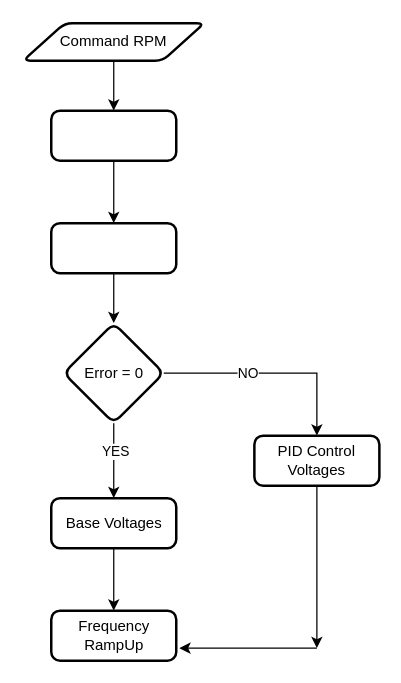
Some shapes in this 401 by 683 pixel diagram are drawn without their labels. Here are the shapes that lost their labels. From the top down, the centre of each, then its label:
At [113,135]: "VF Curve BaseVoltage".
At [113,247]: "Volatge RampUp".
